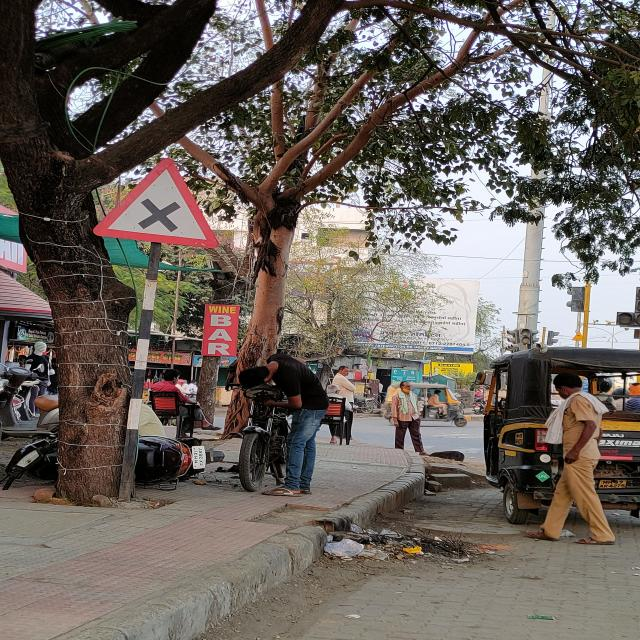cross_road: (93, 158, 219, 250)
